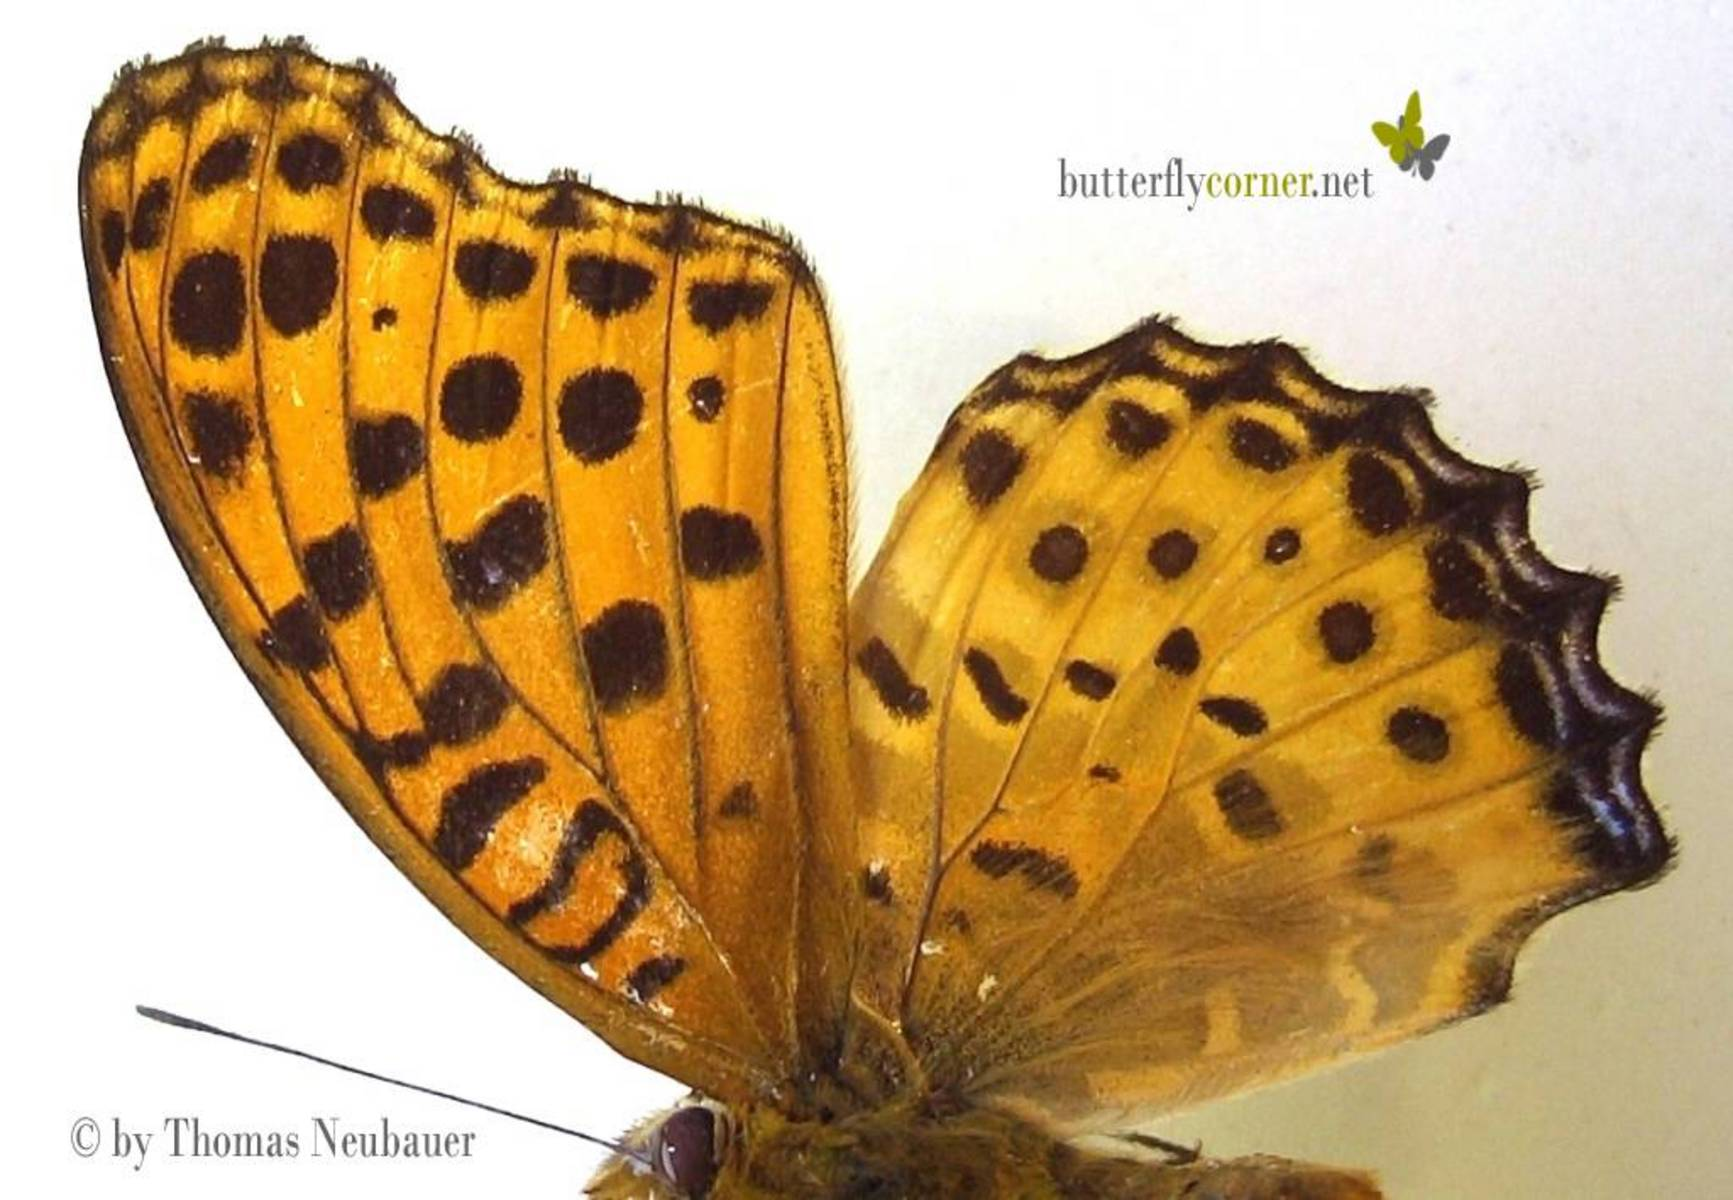Argyreus hyperbius: (61, 20, 1703, 1197)
butterfly: (62, 22, 1705, 1200)
